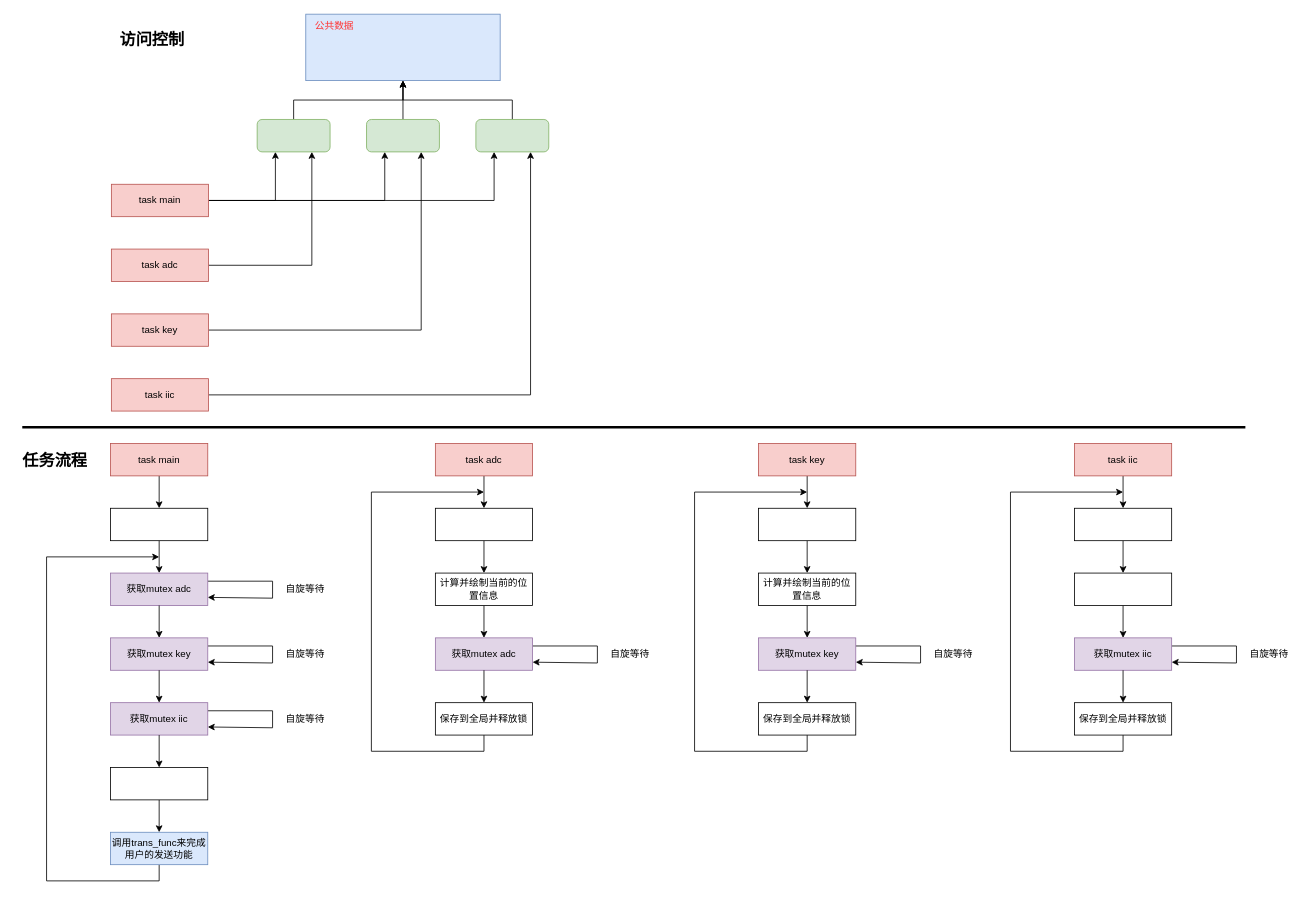
This 1311x902 diagram has some shape labels left out. The box of each missing label's shape, as (x1, y1, x2, y2) in pixels:
mutex adc: (256, 119, 330, 152)
mutex iic: (475, 119, 549, 152)
mutex key: (366, 119, 439, 152)
x1 y1 x2 y2 b1 b2 key pos_x pos_y x y: (305, 13, 500, 81)
从dma中获取adc数据: (435, 507, 533, 541)
将加速度直接当作速度来计算出位置: (1074, 572, 1172, 605)
绘制oled框架外观: (110, 507, 208, 541)
获取到当前的按键信息: (758, 507, 856, 541)
获取并解算当前位姿: (1074, 507, 1172, 541)
转存全局数据并释放所有锁: (110, 767, 208, 800)
